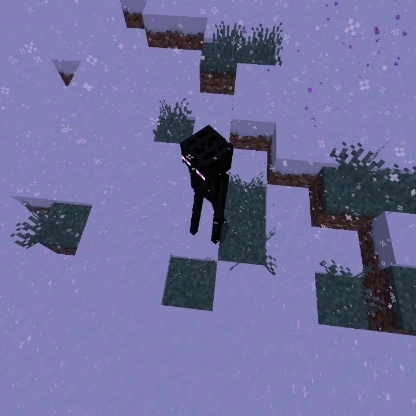enderman: (176, 122, 236, 247)
